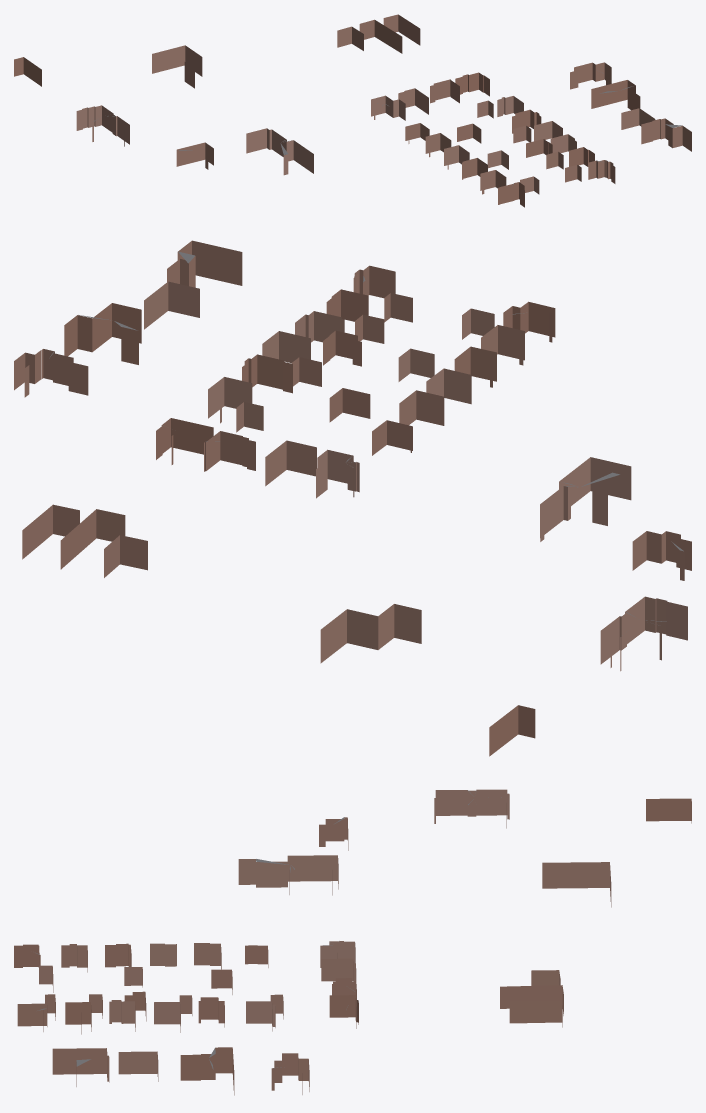
Rendered from c_1642_17820_buildings_residential.glb.
3 renders of one model, top to bottom at view 1: azimuth 30°, elevation 25°; view 2: azimuth 150°, elevation 25°; view 3: azimuth 270°, elevation 25°, orthographic. The views are drawn at different scales.
Visible parts, largest first — view 1: geometry_0; view 2: geometry_0; view 3: geometry_0.
Boxes of the visible parts, left/top/right/bottom form: geometry_0: left=14, top=14, right=691, bottom=207; geometry_0: left=14, top=240, right=691, bottom=756; geometry_0: left=14, top=789, right=691, bottom=1095.
Size of the model in its own units: 258 by 11.08 by 261.
